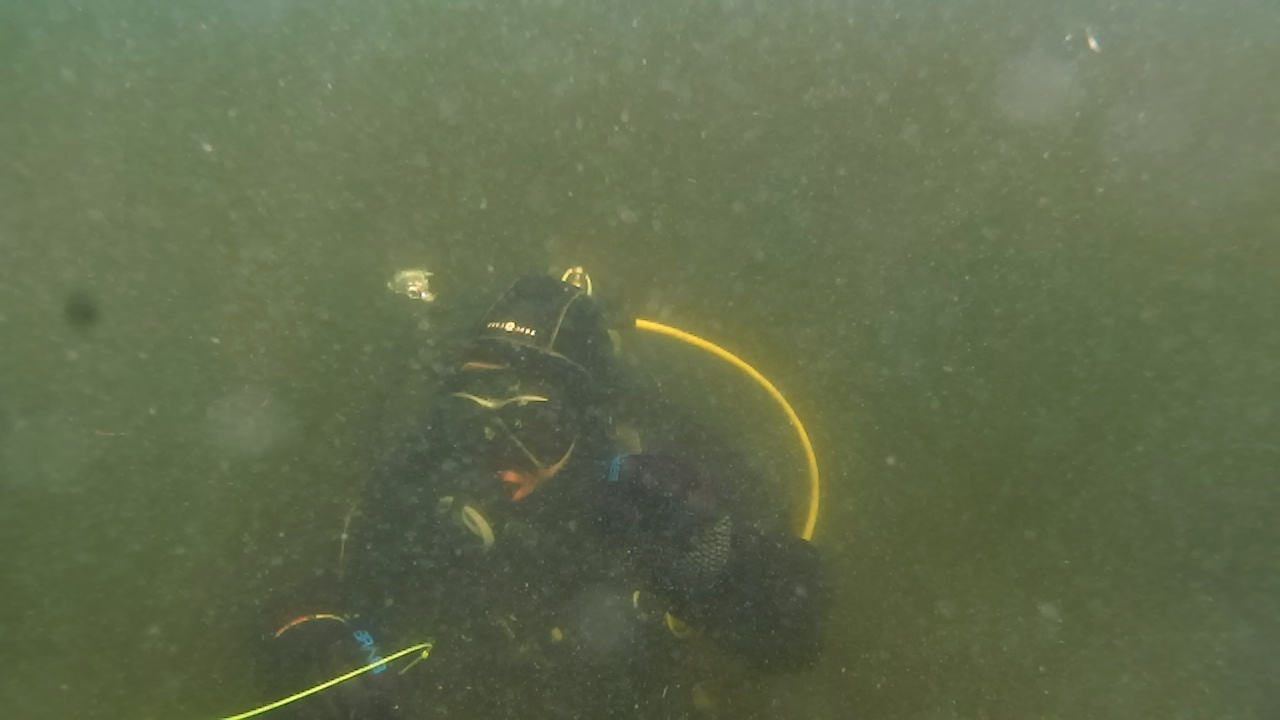Diver: (240, 198, 916, 692)
Hand: (242, 586, 430, 680)
Head: (376, 268, 678, 550)
